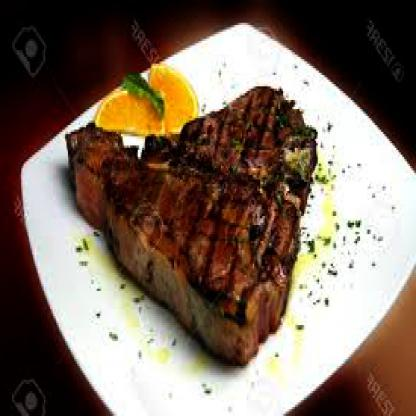Carne: (63, 124, 300, 366), (174, 81, 318, 195)
